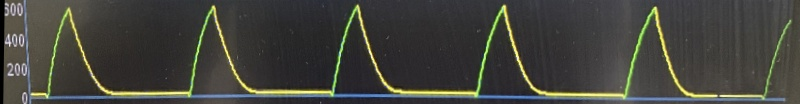normal_volume: (36, 0, 723, 104)
